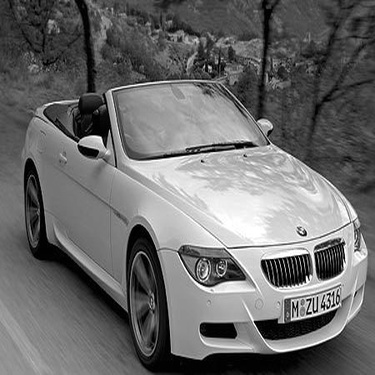car: (14, 84, 373, 372)
